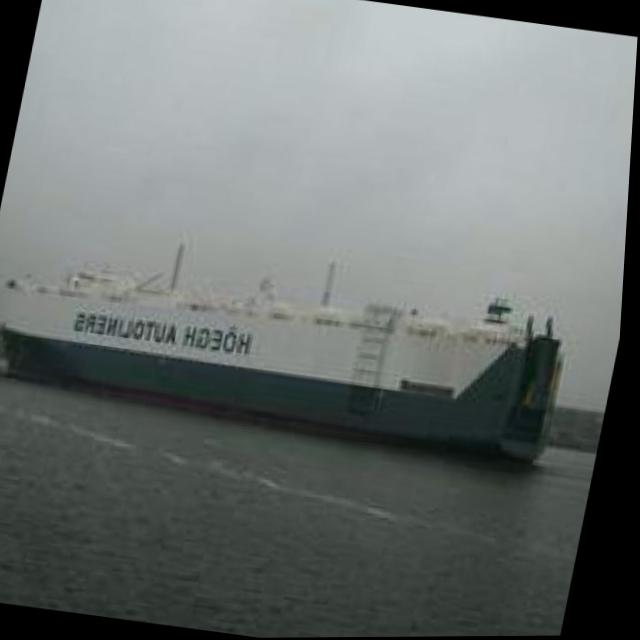ship2: (1, 240, 568, 467)
